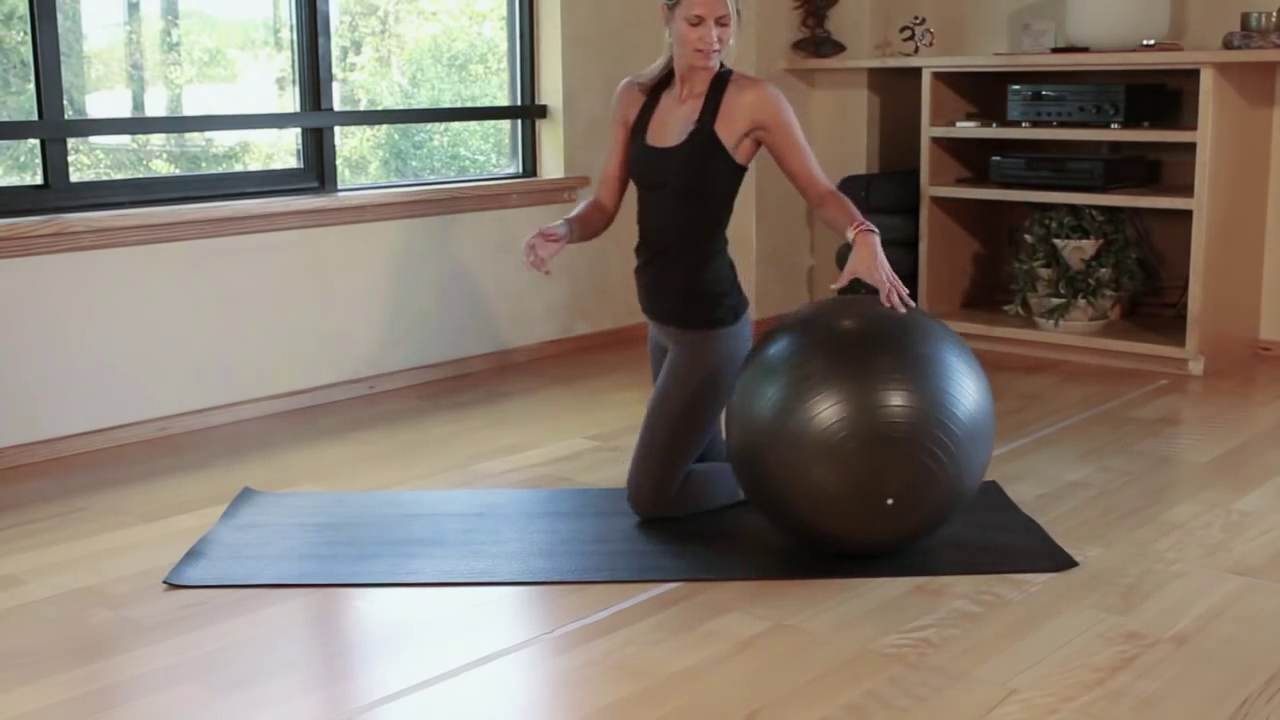yogaball: (725, 291, 1001, 555)
